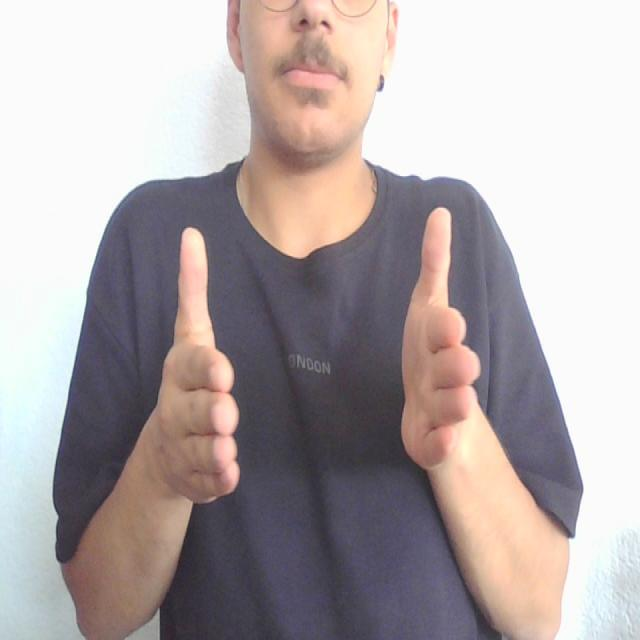Nasil: (152, 201, 482, 518)
